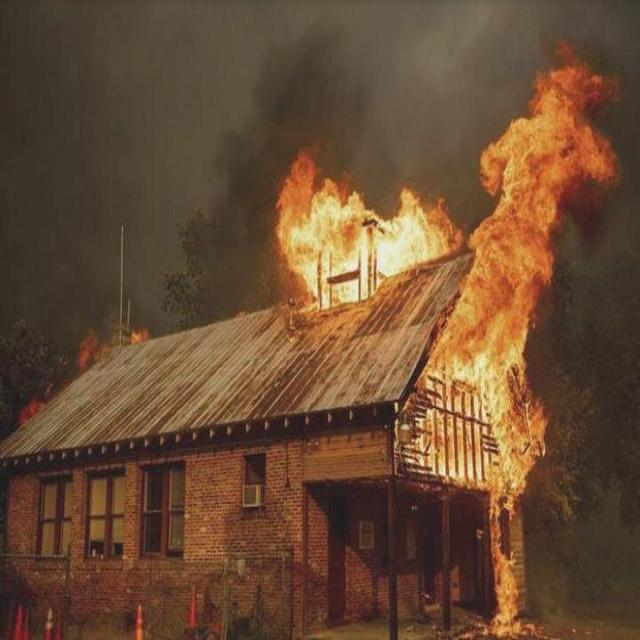fire: (492, 39, 610, 253), (267, 159, 433, 261), (459, 265, 556, 388)
